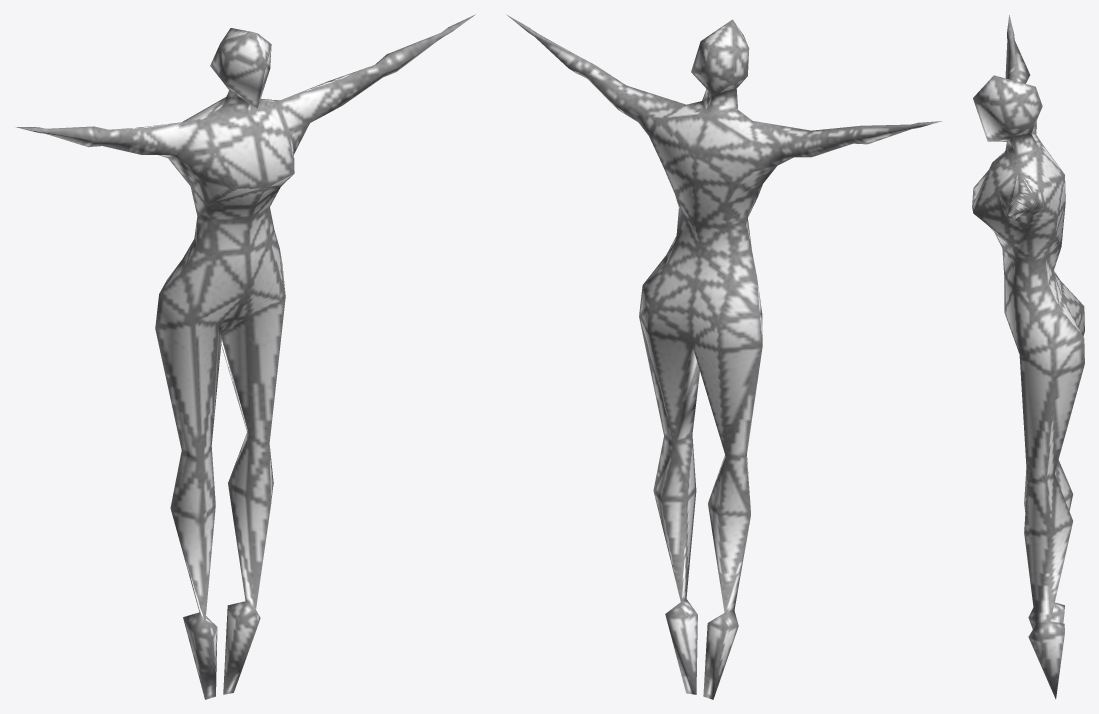
The model's file is woman02.obj.
The picture shows the model from 3 angles, left to right: view 1: azimuth 30°, elevation 25°; view 2: azimuth 150°, elevation 25°; view 3: azimuth 270°, elevation 25°; orthographic projection. The views are drawn at different scales.
Parts seen in each view (by area): view 1: woman_extract3; view 2: woman_extract3; view 3: woman_extract3.
Part boxes in pixels (x1,y1,x2,y2): woman_extract3: (16, 14, 475, 699); woman_extract3: (506, 14, 942, 699); woman_extract3: (972, 15, 1084, 699).
Bounding box in the file's own units: 0.3046 × 0.4341 × 0.0718.
1 material, 1 textured.
